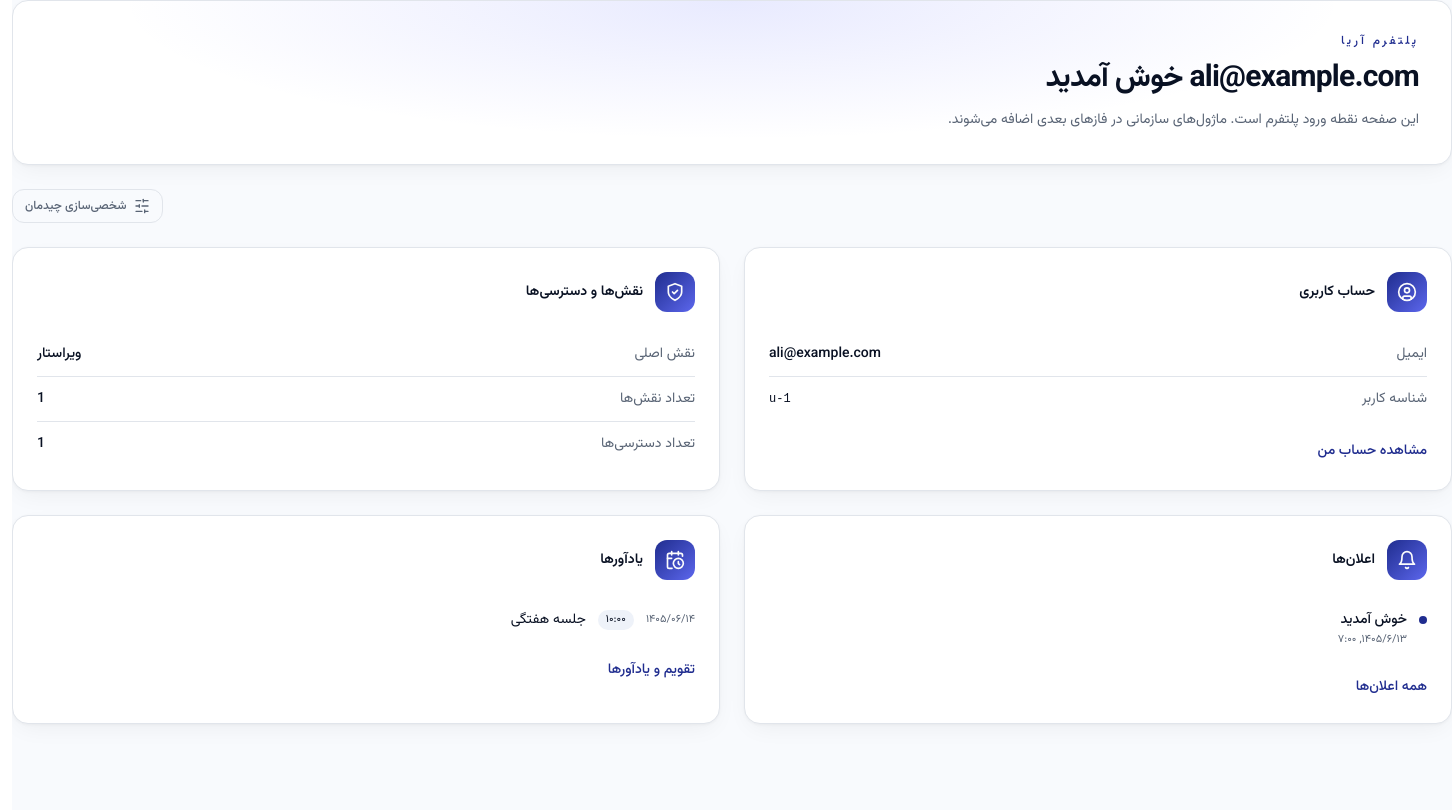
Test case: CoreDashboard › the layout editor › disables the move that does not exist
The width and height of the screenshot is (1452, 810).
Click the button with test id "core-layout-toggle".
click(88, 206)  # box x1=12 y1=189 x2=163 y2=223
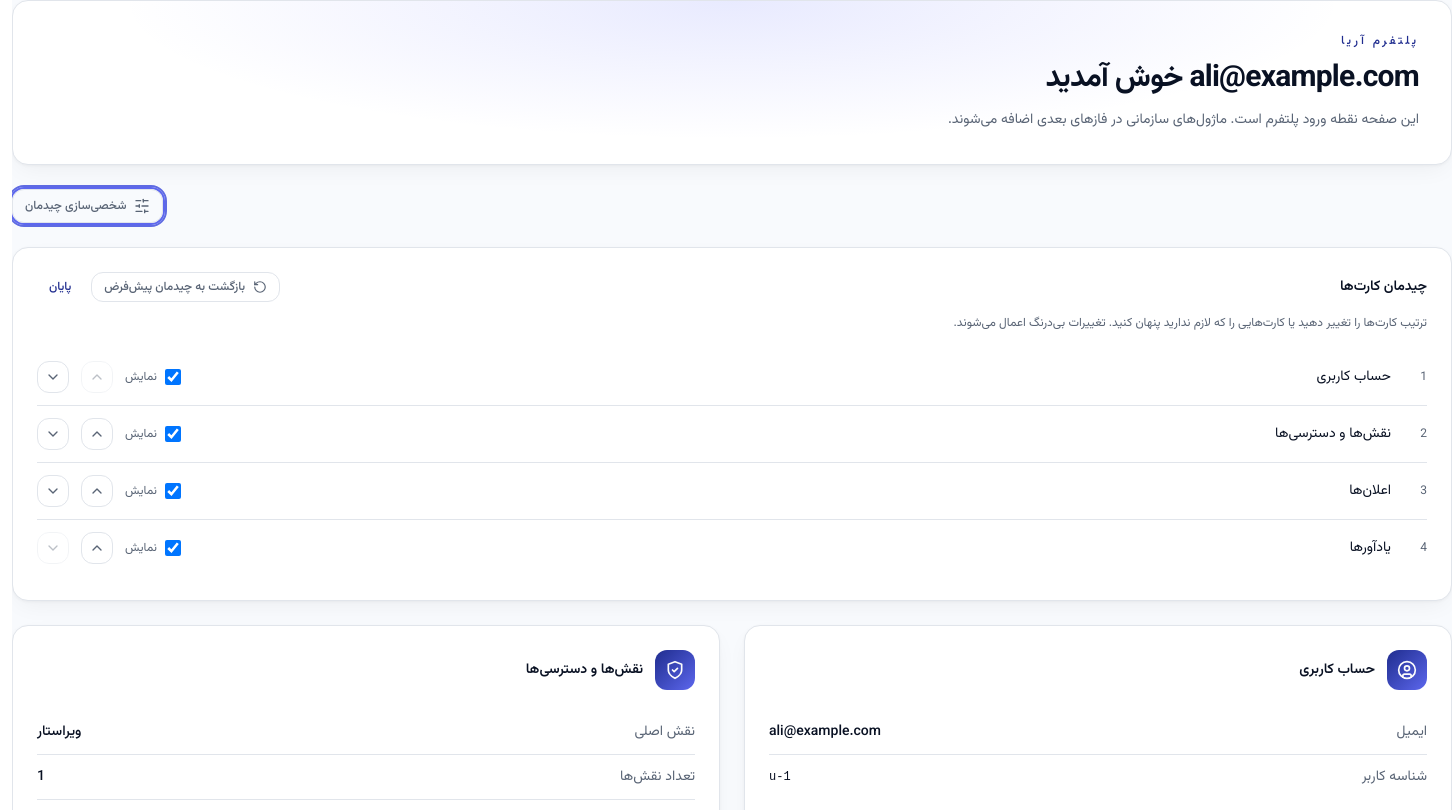
Expected: the button with test id "core-layout-down" is disabled, x1=37 y1=532 x2=69 y2=564
Expected: the element with test id "core-layout-editor" is shown, x1=12 y1=247 x2=1451 y2=601
Expected: the button with test id "core-layout-up" is disabled, x1=81 y1=361 x2=113 y2=393
